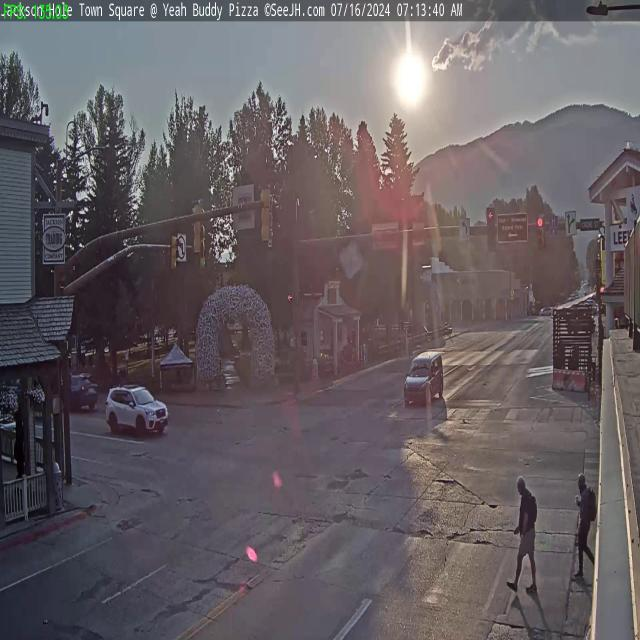person: (511, 473, 539, 593), (574, 470, 597, 578)
suv: (105, 383, 169, 438), (402, 348, 446, 414), (63, 373, 98, 412)
traffic light: (190, 199, 204, 256), (260, 184, 273, 244), (486, 207, 496, 252), (536, 215, 546, 248)
